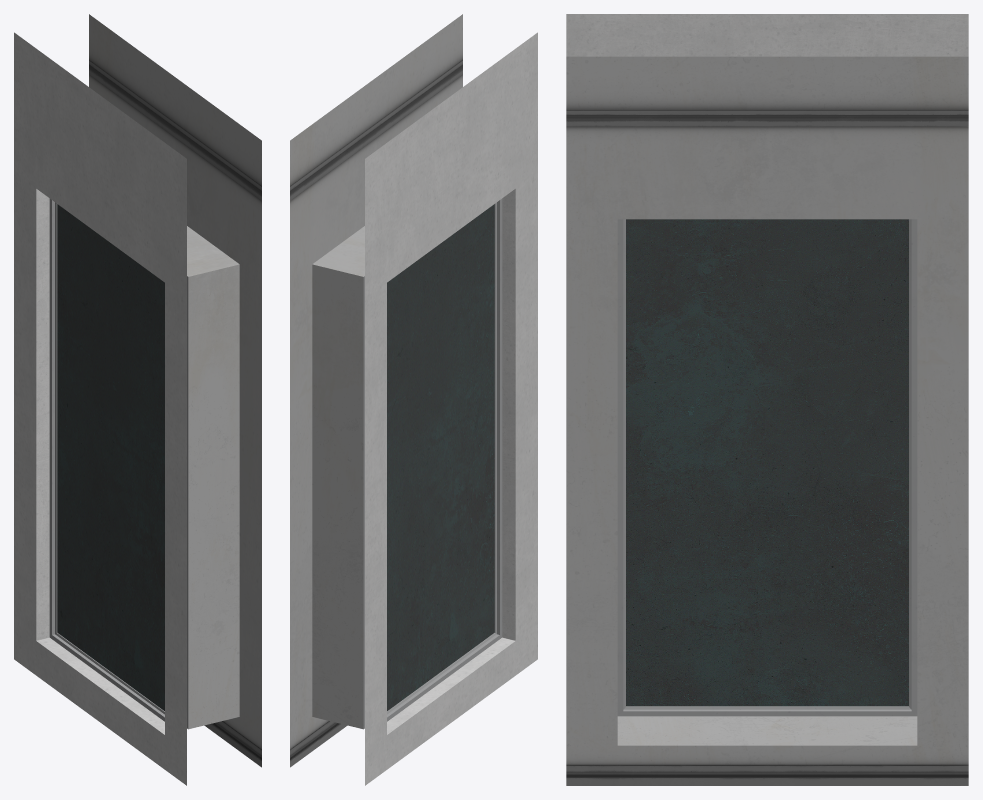
The model's file is MB_Showcase_07.fbx.
3 renders of one model, left to right at view 1: azimuth 30°, elevation 25°; view 2: azimuth 150°, elevation 25°; view 3: azimuth 270°, elevation 25°, orthographic. The views are drawn at different scales.
Parts seen in each view (by area): view 1: MB_Showcase_07; view 2: MB_Showcase_07; view 3: MB_Showcase_07.
Boxes of the visible parts, box(x1,y1,x2,y2) form: MB_Showcase_07: box(14, 14, 261, 785); MB_Showcase_07: box(290, 14, 537, 785); MB_Showcase_07: box(566, 14, 968, 785).
Size of the model in its own units: 50 by 400 by 200.
